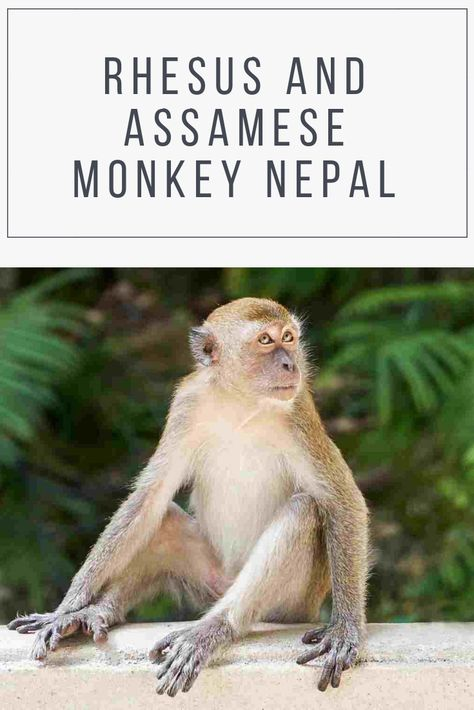monkey: (14, 295, 380, 697)
